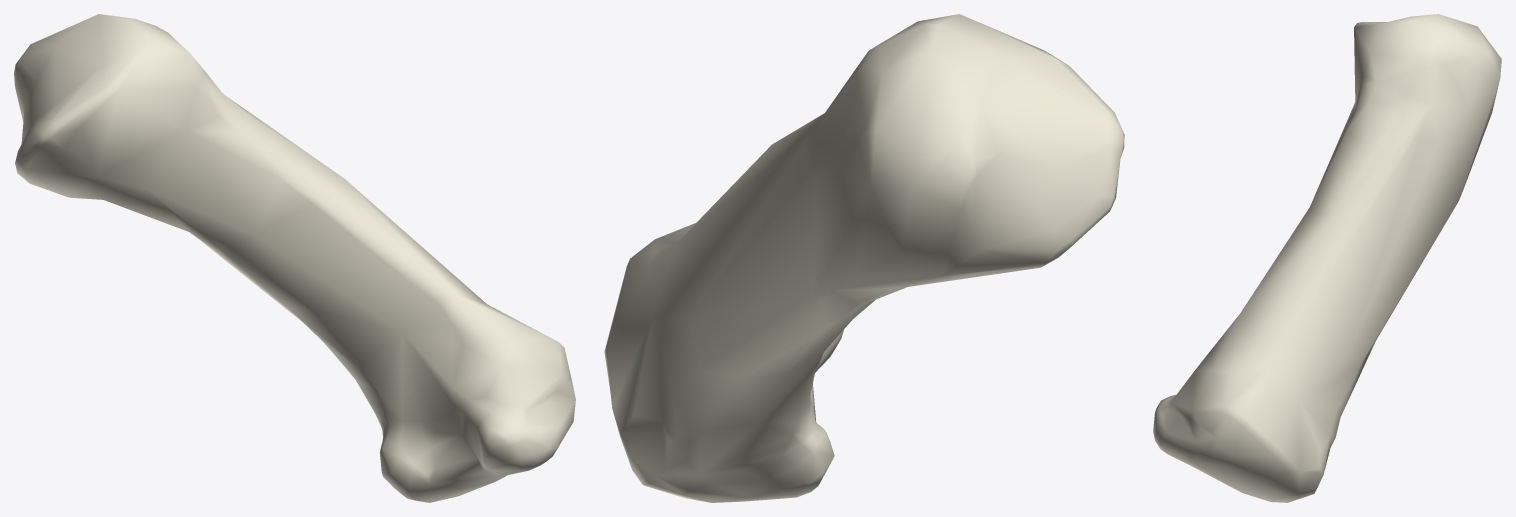
The picture shows the model from 3 angles, left to right: view 1: azimuth 30°, elevation 25°; view 2: azimuth 150°, elevation 25°; view 3: azimuth 270°, elevation 25°; orthographic projection. The views are drawn at different scales.
Visible parts, largest first — view 1: ZA_9df38dd0067f8e42; view 2: ZA_9df38dd0067f8e42; view 3: ZA_9df38dd0067f8e42.
Boxes of the visible parts, x1,y1,x2,y2 form: ZA_9df38dd0067f8e42: (14,14,575,502); ZA_9df38dd0067f8e42: (604,14,1124,502); ZA_9df38dd0067f8e42: (1153,14,1501,502).
Bounding box in the file's own units: 0.0387 × 0.0384 × 0.0315.
